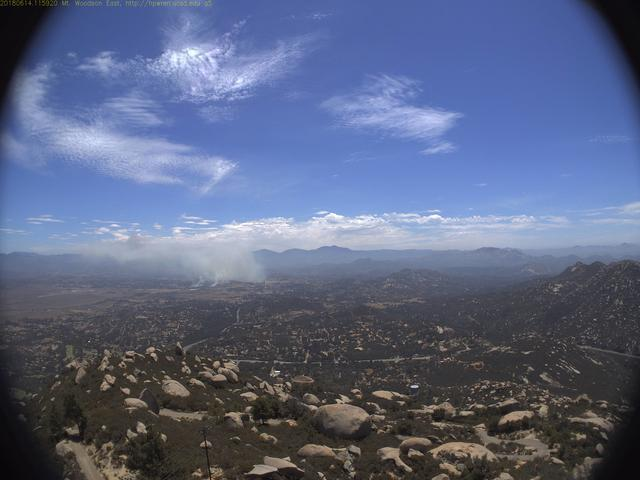Smoke: (97, 224, 271, 288)
